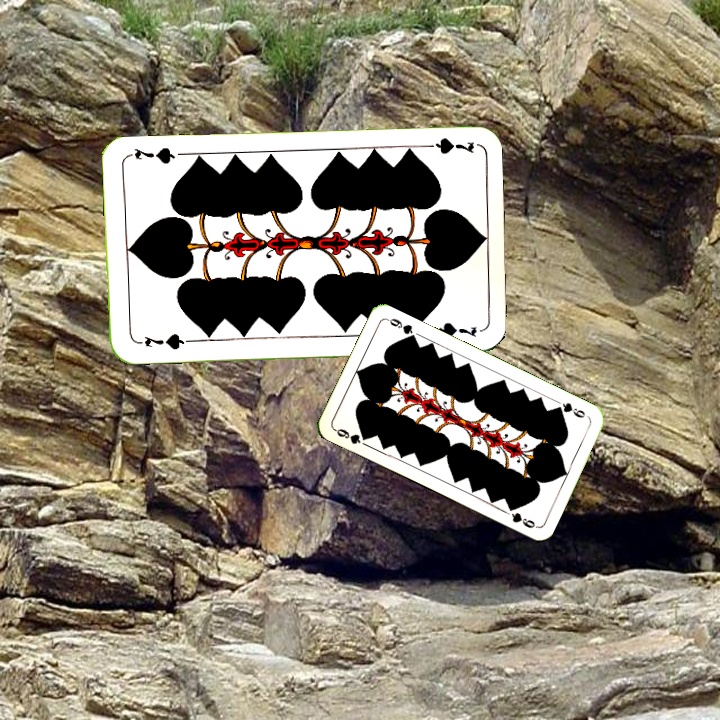G7: (416, 134, 476, 157), (132, 330, 192, 352)
G9: (330, 424, 371, 447), (551, 398, 588, 421)
